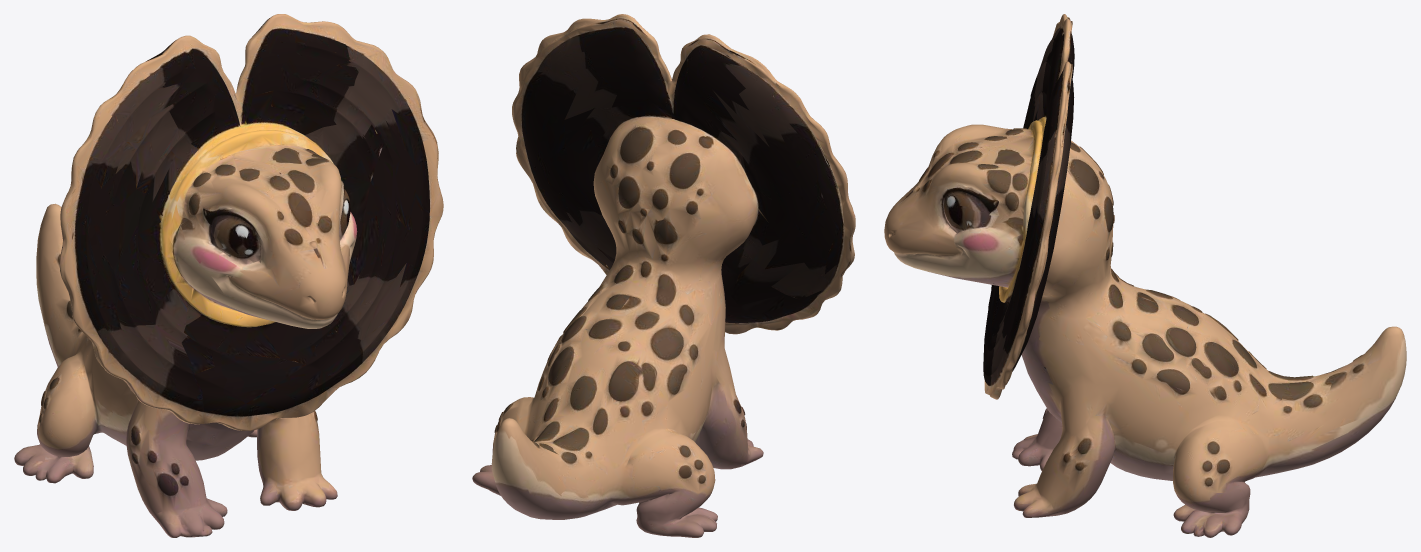
3 renders of one model, left to right at view 1: azimuth 30°, elevation 25°; view 2: azimuth 150°, elevation 25°; view 3: azimuth 270°, elevation 25°, orthographic. The views are drawn at different scales.
Visible parts, largest first — view 1: Mesh_0; view 2: Mesh_0; view 3: Mesh_0.
Part boxes in pixels (x1,y1,x2,y2): Mesh_0: (14,14,443,537); Mesh_0: (472,14,855,537); Mesh_0: (884,14,1406,537).
Bounding box in the file's own units: 1.47 × 1.76 × 1.9.
1 material, 1 textured.
